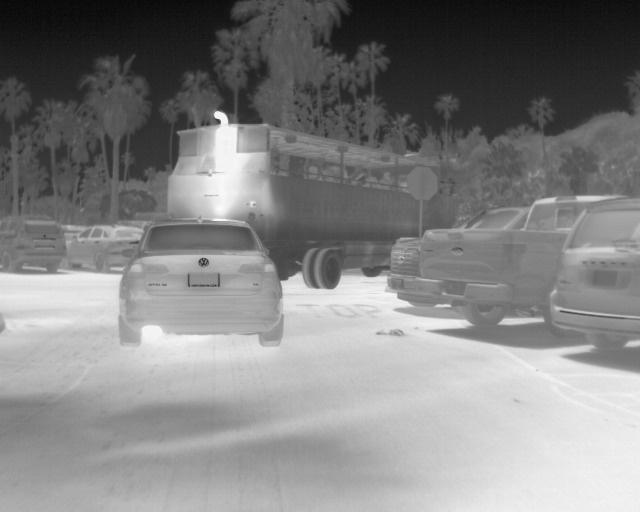bicycle: (420, 193, 626, 326), (115, 214, 286, 347), (548, 195, 638, 350), (63, 223, 141, 272), (0, 216, 64, 274), (382, 234, 425, 310), (469, 206, 530, 230)
